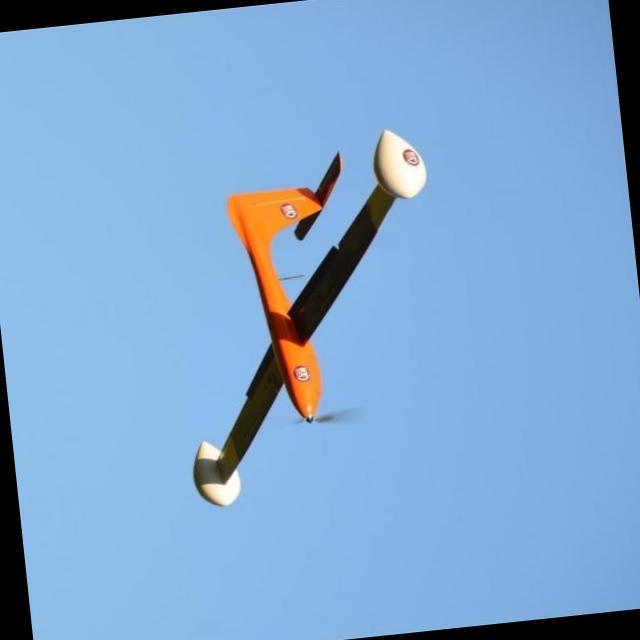UAV: (169, 116, 439, 524)
